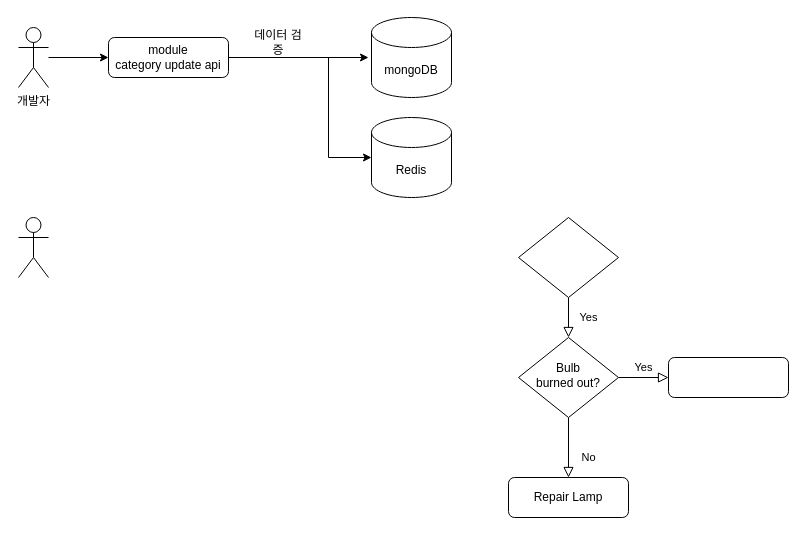
Image size: 806x535. Some labels were removed from this diagram. The shapes that lost their labels are listed below. From the top down, each one's centre as x and y in pixels, then its label:
At [33,247]: "Actor".
At [568,257]: "Lamp plugged in?".
At [728,377]: "Replace Bulb".
